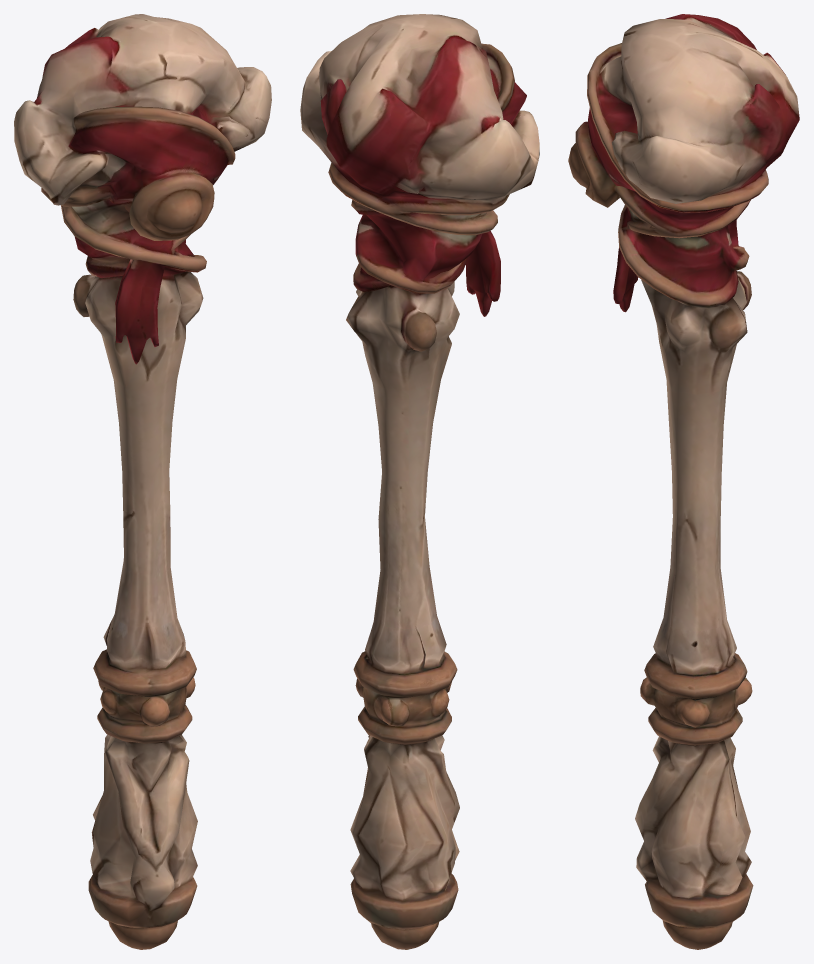
File: SM_EnemyPart_LianguMallet.glb
3 renders of one model, left to right at view 1: azimuth 30°, elevation 25°; view 2: azimuth 150°, elevation 25°; view 3: azimuth 270°, elevation 25°, orthographic.
Visible parts, largest first — view 1: SM_EnemyPart_LianguMallet_LOD0; view 2: SM_EnemyPart_LianguMallet_LOD0; view 3: SM_EnemyPart_LianguMallet_LOD0.
Part boxes in pixels (x1,y1,x2,y2): SM_EnemyPart_LianguMallet_LOD0: [14, 14, 271, 949]; SM_EnemyPart_LianguMallet_LOD0: [300, 14, 539, 949]; SM_EnemyPart_LianguMallet_LOD0: [568, 14, 799, 949].
Size of the model in its own units: 0.2832 by 1.1 by 0.2521.
1 material, 1 textured.
